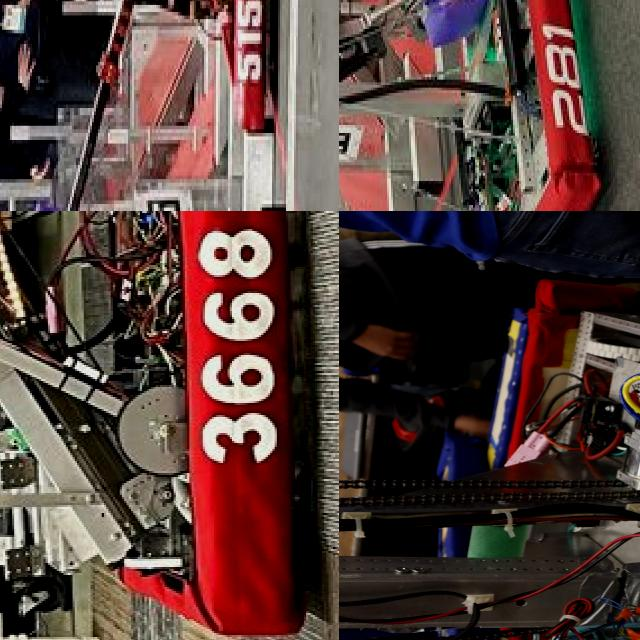FRC-Robots: (0, 211, 330, 640), (339, 279, 640, 640), (0, 0, 325, 211), (339, 0, 577, 211)
